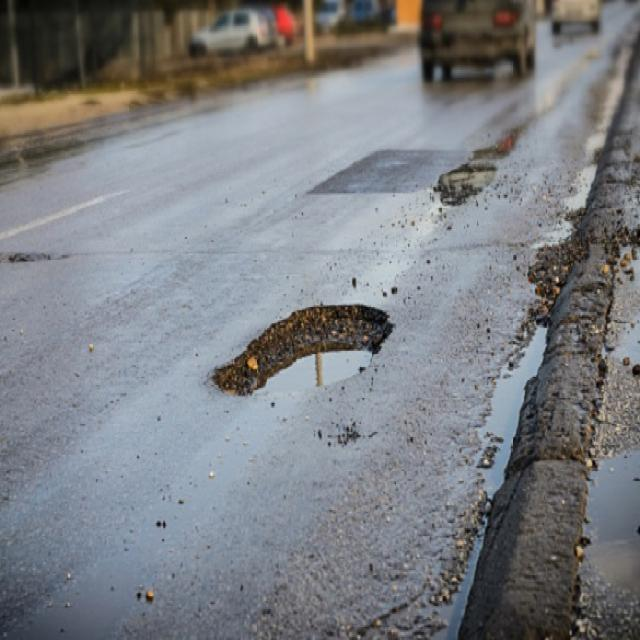Pothole: (210, 305, 396, 398), (433, 132, 512, 208)
